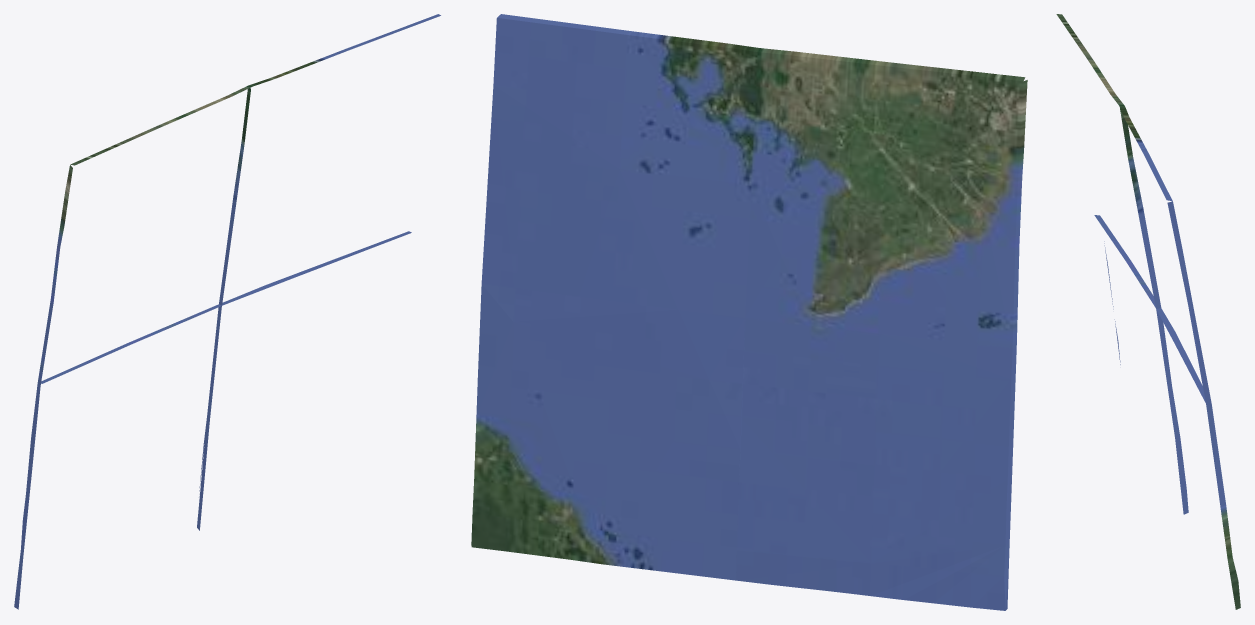
3 views of the same model, side by side, from view 1: azimuth 30°, elevation 25°; view 2: azimuth 150°, elevation 25°; view 3: azimuth 270°, elevation 25° (orthographic). The views are drawn at different scales.
Size of the model in its own units: 628575 by 624130 by 250282.
1 material, 1 textured.
